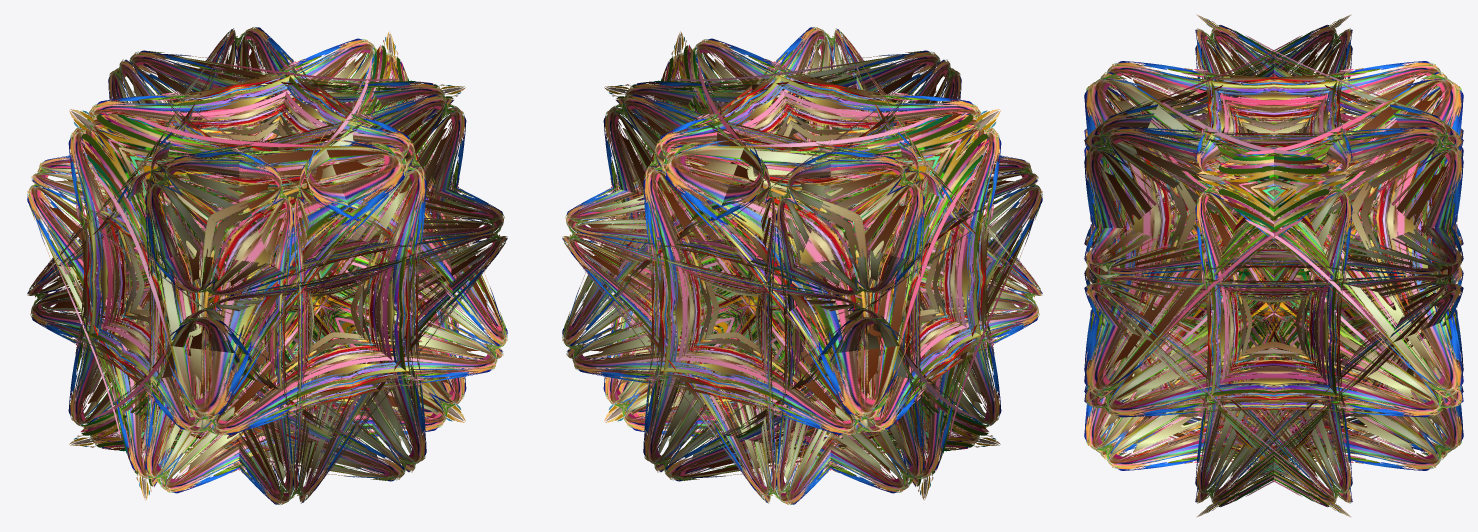
File: UniformGreatRhombicuboctahedron9.gltf
The picture shows the model from 3 angles, left to right: view 1: azimuth 30°, elevation 25°; view 2: azimuth 150°, elevation 25°; view 3: azimuth 270°, elevation 25°; orthographic projection. The views are drawn at different scales.
Visible parts, largest first — view 1: UniformGreatRhombicuboctahedron9; view 2: UniformGreatRhombicuboctahedron9; view 3: UniformGreatRhombicuboctahedron9.
Part boxes in pixels (x1,y1,x2,y2): UniformGreatRhombicuboctahedron9: (27,27,507,504); UniformGreatRhombicuboctahedron9: (562,27,1042,504); UniformGreatRhombicuboctahedron9: (1084,15,1463,516).
Size of the model in its own units: 1 by 1 by 1.
1 material, 1 textured.
